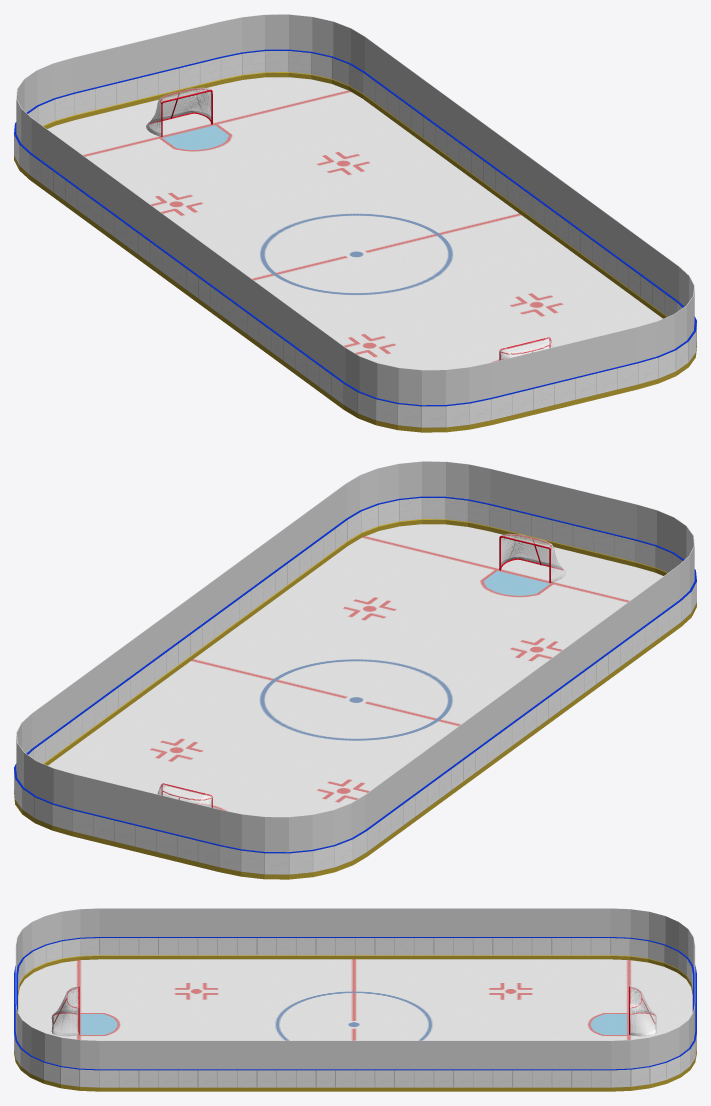
The model's file is HockeyArena.glb.
3 renders of one model, top to bottom at view 1: azimuth 30°, elevation 25°; view 2: azimuth 150°, elevation 25°; view 3: azimuth 270°, elevation 25°, orthographic. The views are drawn at different scales.
Visible parts, largest first — view 1: Ice, Boards, GoalNet; view 2: Ice, Boards, GoalNet.001, GoalNet; view 3: Boards, Ice, GoalNet.001, GoalNet.
Boxes of the visible parts, x1,y1,x2,y2 form: Ice: [47, 77, 662, 369]; Boards: [14, 14, 696, 432]; GoalNet: [146, 87, 213, 136]; Ice: [48, 524, 663, 816]; Boards: [14, 461, 696, 879]; GoalNet.001: [499, 533, 566, 582]; GoalNet: [157, 783, 212, 807]; Boards: [14, 908, 696, 1091]; Ice: [18, 959, 692, 1040]; GoalNet.001: [51, 986, 79, 1036]; GoalNet: [629, 986, 656, 1036].
Size of the model in its own units: 12.16 by 2.15 by 26.16.
7 materials, 3 textured.
